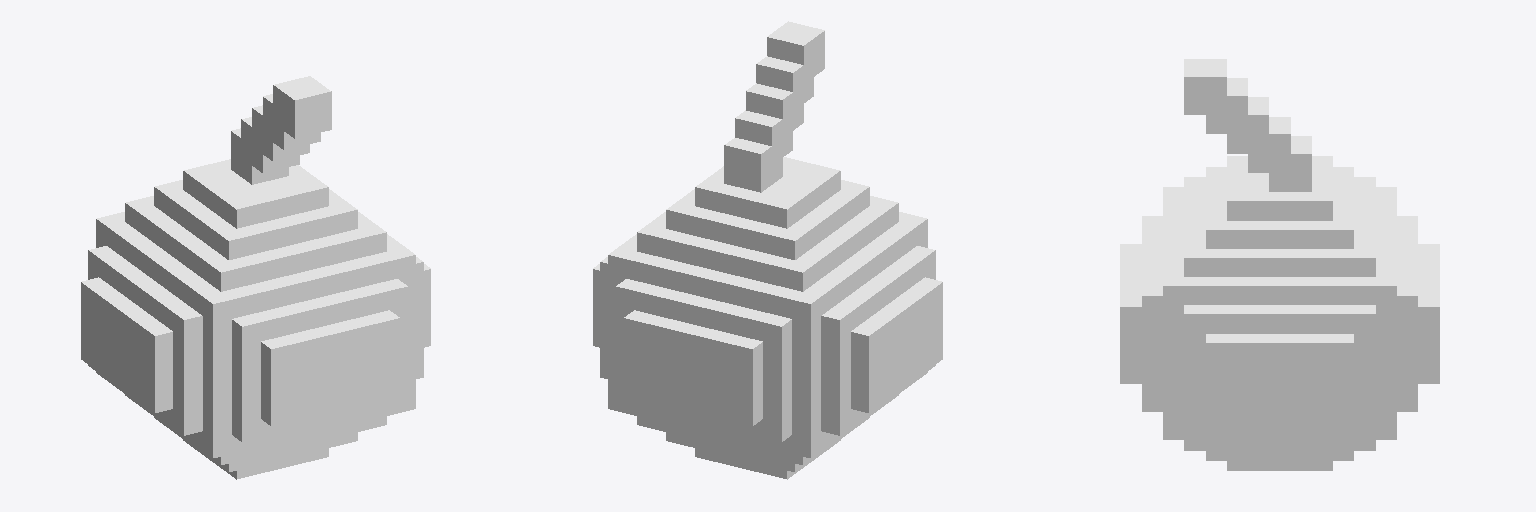
The model's file is vegetable.obj.
3 views of the same model, side by side, from view 1: azimuth 30°, elevation 25°; view 2: azimuth 150°, elevation 25°; view 3: azimuth 270°, elevation 25° (orthographic).
Size of the model in its own units: 15 by 20 by 15.